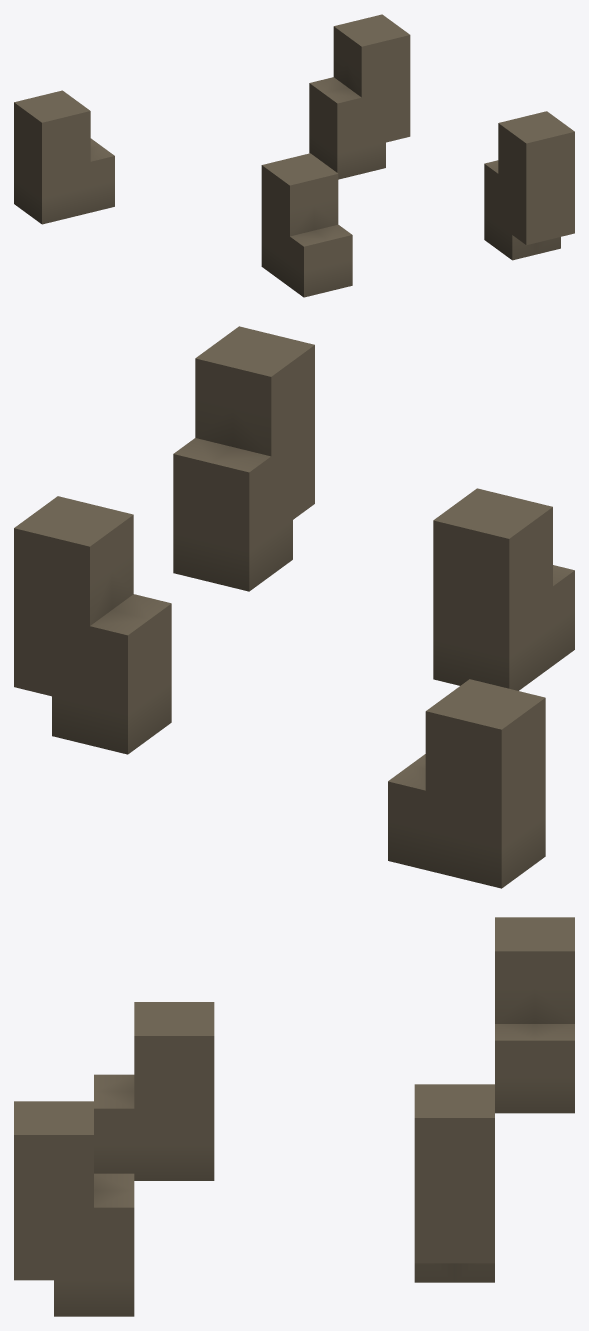
File: flowers_1_winter.glb
3 views of the same model, one above another, from view 1: azimuth 30°, elevation 25°; view 2: azimuth 150°, elevation 25°; view 3: azimuth 270°, elevation 25° (orthographic). The views are drawn at different scales.
Visible parts, largest first — view 1: VoxelVisual; view 2: VoxelVisual; view 3: VoxelVisual.
Boxes of the visible parts, box(x1,y1,x2,y2) form: VoxelVisual: box(14, 14, 574, 297); VoxelVisual: box(14, 326, 574, 888); VoxelVisual: box(14, 917, 574, 1316).
Size of what is drawn, in the model's own units: 0.9375 by 0.3125 by 0.875.
